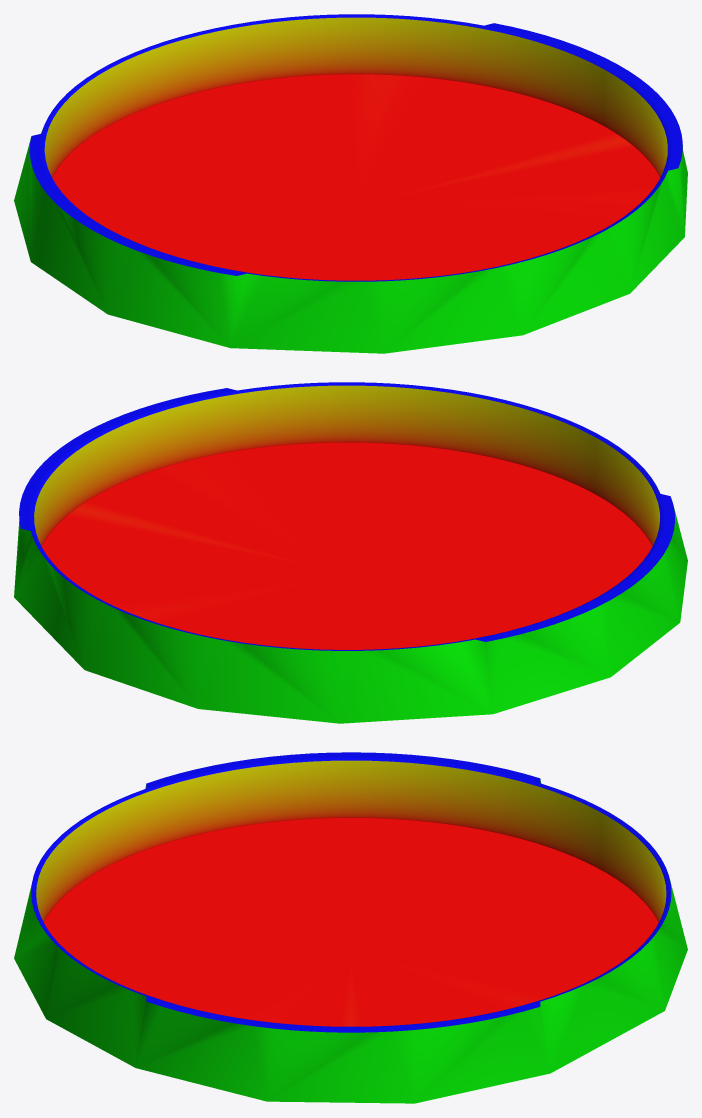
The model's file is MagicWindow.fbx.
3 renders of one model, top to bottom at view 1: azimuth 30°, elevation 25°; view 2: azimuth 150°, elevation 25°; view 3: azimuth 270°, elevation 25°, orthographic.
Parts seen in each view (by area): view 1: MagicWindow; view 2: MagicWindow; view 3: MagicWindow.
Boxes of the visible parts, bbox=[...] form: MagicWindow: bbox=[14, 14, 687, 353]; MagicWindow: bbox=[14, 382, 687, 723]; MagicWindow: bbox=[14, 752, 687, 1103].
Size of the model in its own units: 216 by 22.89 by 212.
